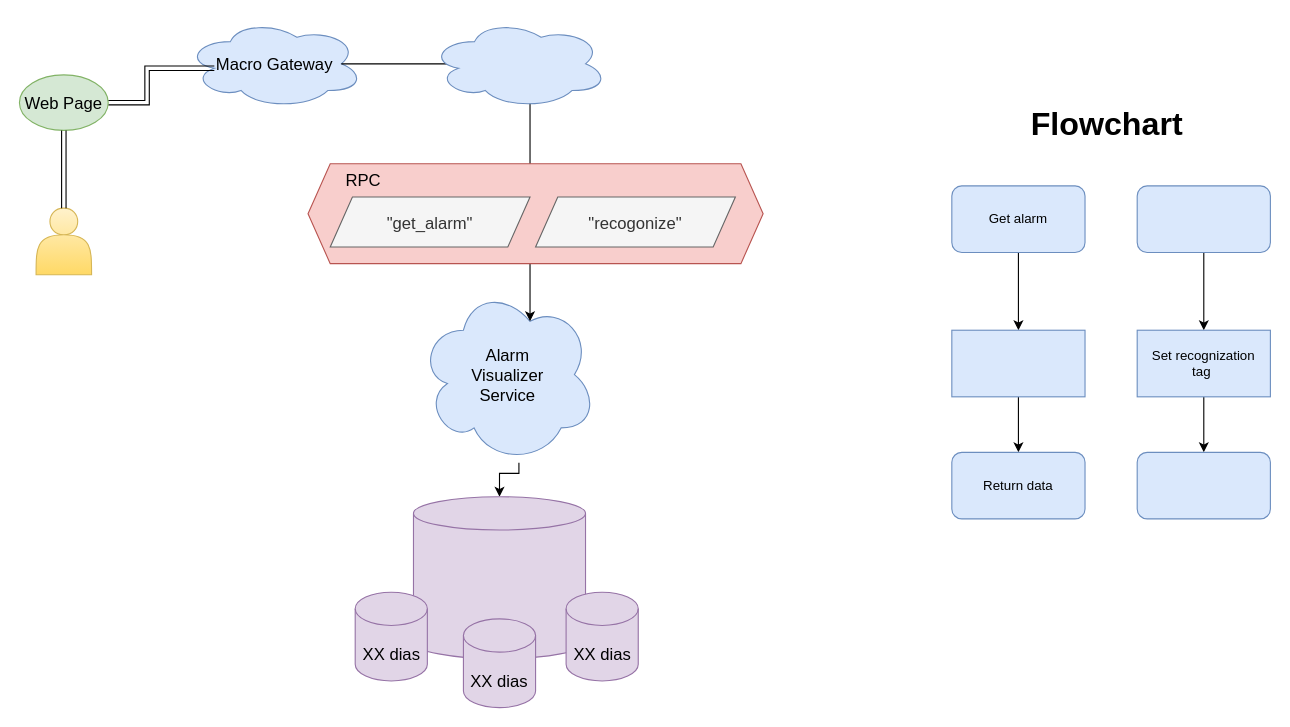
The diagram is 1290 pixels wide and 727 high, and some of its shapes have lost their labels. Each missing label, with the centre of its shape:
Get data using filters (if have): the point at 1018,363
InfluxDB: the point at 499,577
Manager Service: the point at 518,63
Recognize: the point at 1203,219
Return ok: the point at 1203,485
